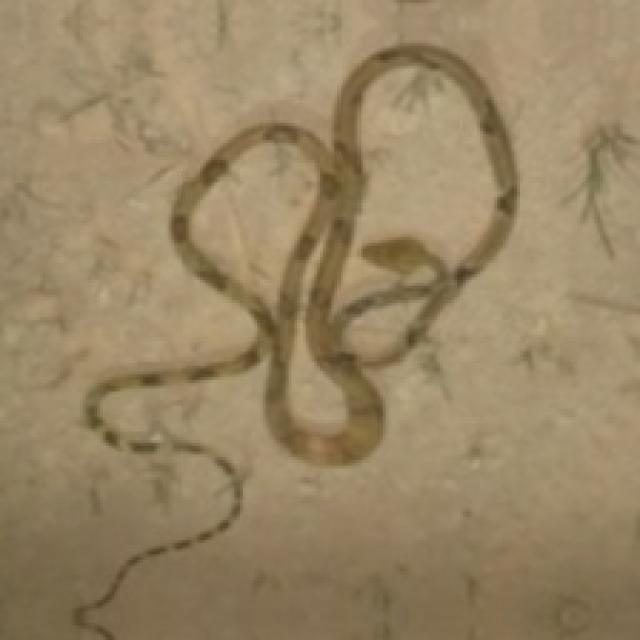dog-toothed cat snake: (86, 43, 514, 463)
